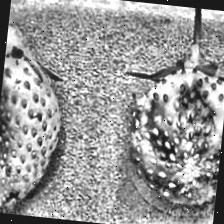Anthracnose Fruit Rot: (124, 68, 224, 189), (0, 101, 28, 163)
